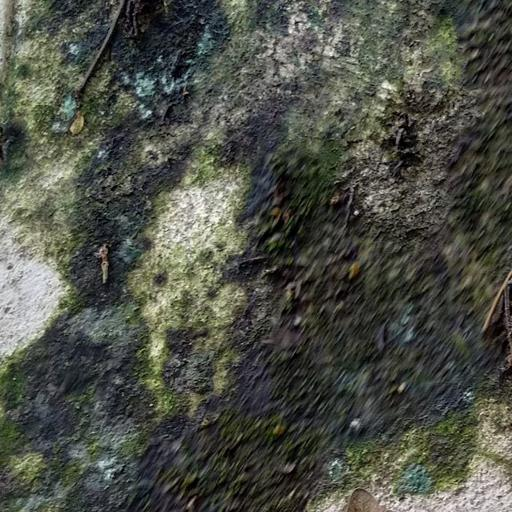algae: (4, 10, 512, 512)
